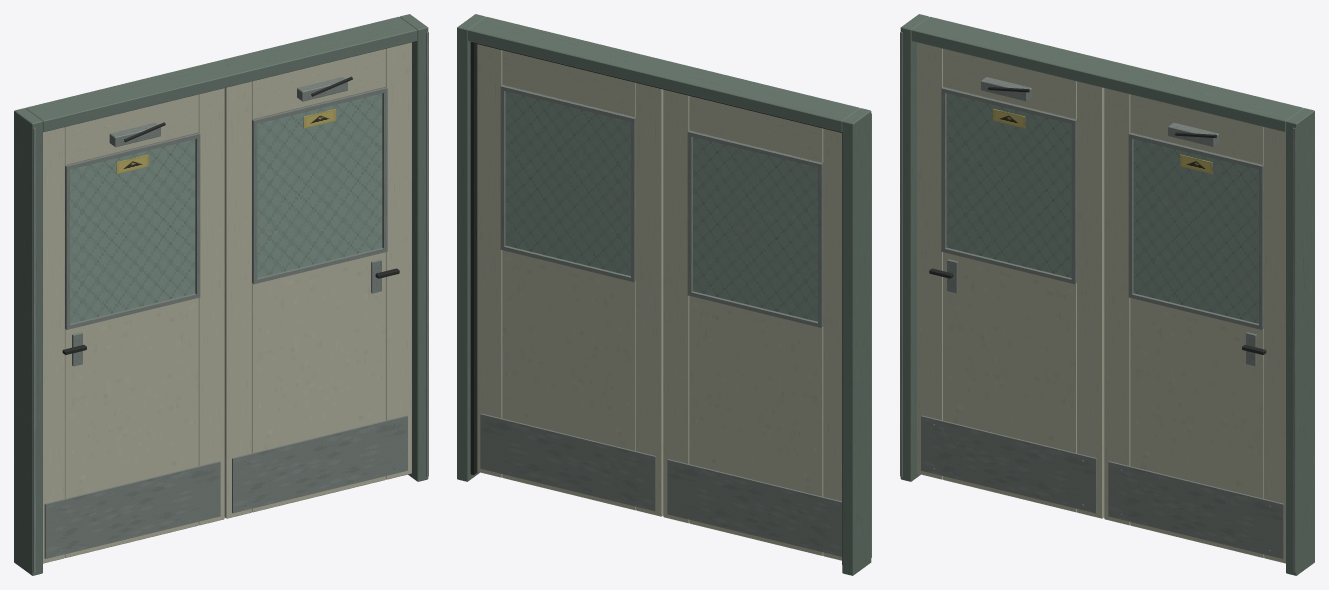
File: utility_double_door_wired.glb
3 renders of one model, left to right at view 1: azimuth 30°, elevation 25°; view 2: azimuth 150°, elevation 25°; view 3: azimuth 330°, elevation 25°, orthographic.
Parts seen in each view (by area): view 1: utility_double_door_wired; view 2: utility_double_door_wired; view 3: utility_double_door_wired.
Boxes of the visible parts, x1,y1,x2,y2 form: utility_double_door_wired: (14, 14, 428, 575); utility_double_door_wired: (457, 14, 871, 575); utility_double_door_wired: (900, 14, 1314, 575).
Bounding box in the file's own units: 1.98 × 2.16 × 0.1839.
6 materials, 6 textured.
